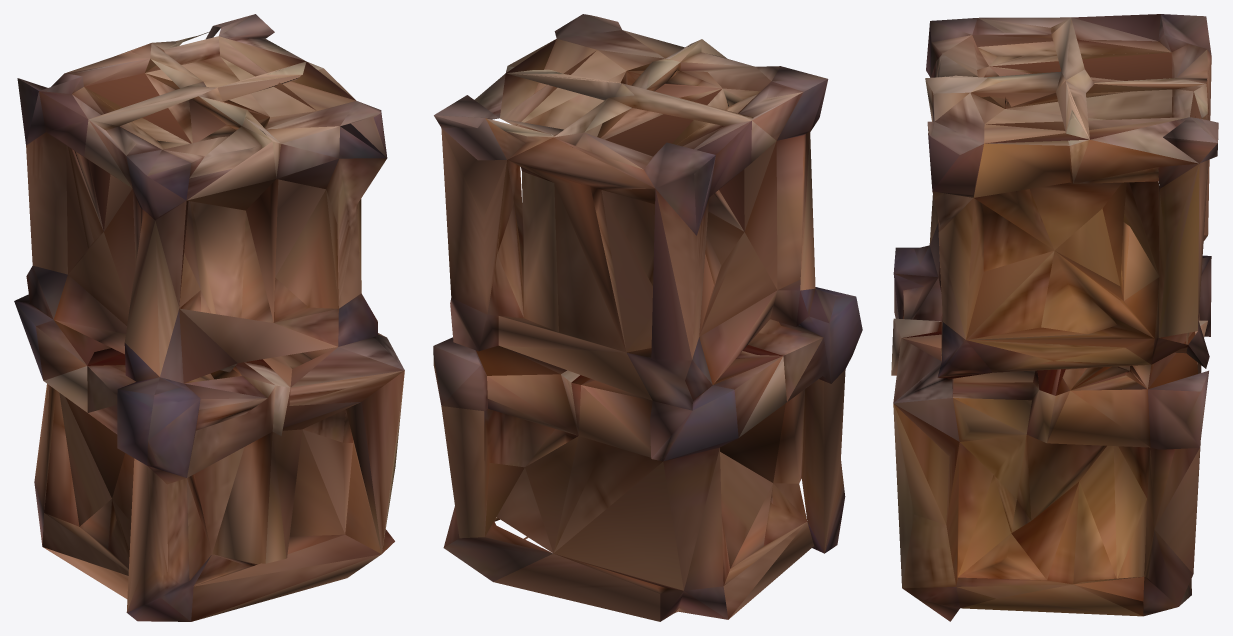
Rendered from crate.glb.
The picture shows the model from 3 angles, left to right: view 1: azimuth 30°, elevation 25°; view 2: azimuth 150°, elevation 25°; view 3: azimuth 270°, elevation 25°; orthographic projection. The views are drawn at different scales.
Visible parts, largest first — view 1: tripo_node_4d4b62fd-e127-45fc-a34c-dcbc78ffba19; view 2: tripo_node_4d4b62fd-e127-45fc-a34c-dcbc78ffba19; view 3: tripo_node_4d4b62fd-e127-45fc-a34c-dcbc78ffba19.
Boxes of the visible parts, box(x1,y1,x2,y2) form: tripo_node_4d4b62fd-e127-45fc-a34c-dcbc78ffba19: box(14, 14, 404, 621); tripo_node_4d4b62fd-e127-45fc-a34c-dcbc78ffba19: box(433, 14, 862, 621); tripo_node_4d4b62fd-e127-45fc-a34c-dcbc78ffba19: box(891, 14, 1218, 621).
Bounding box in the file's own units: 0.6104 × 0.9709 × 0.59.
Materials: 1 (1 with a texture image).
